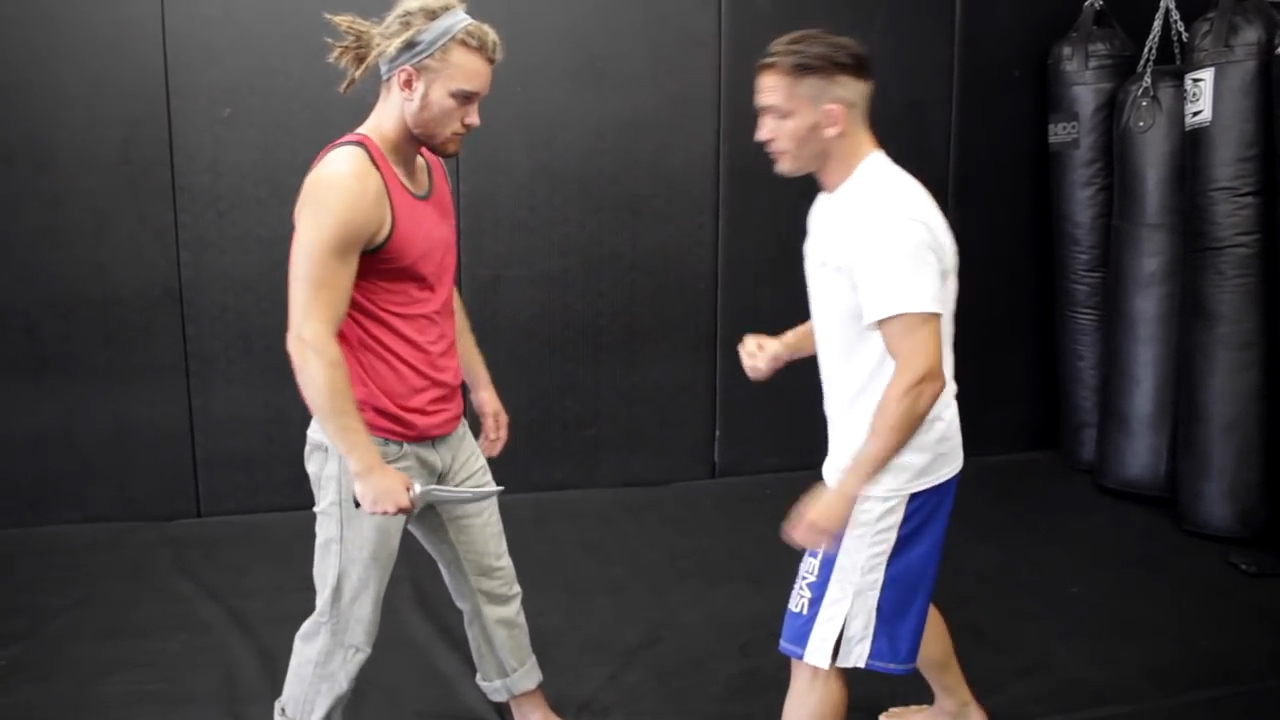knife: (344, 474, 515, 519)
